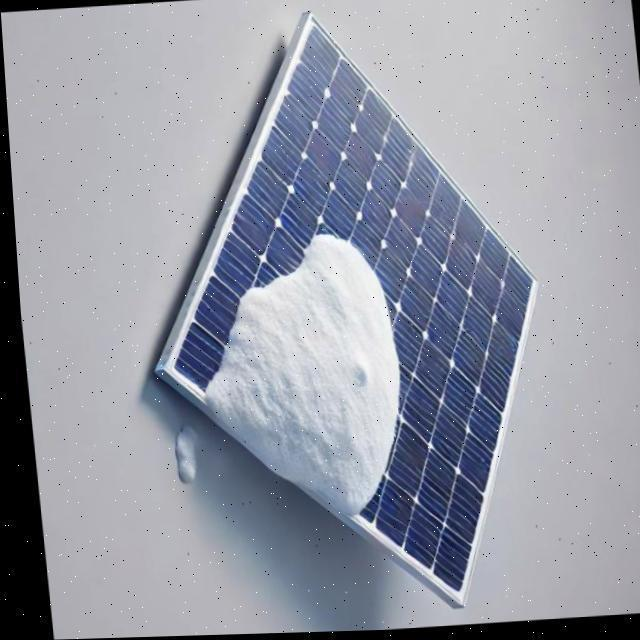Anomaly Solar Panel: (85, 19, 640, 601)
Snow: (173, 208, 458, 523)
